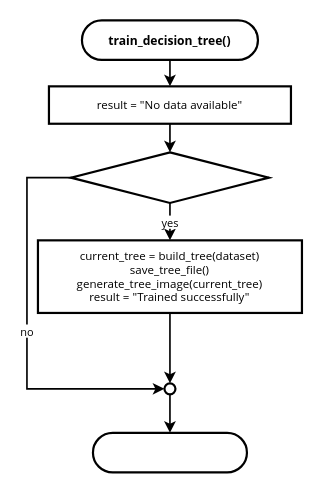
The diagram is 322 pixels wide and 492 high, and some of its shapes have lost their labels. The shapes that lost their labels are listed below. From the top down, each one's box as (x1, y1, x2, y2) in pixels, then its label:
(69, 151, 270, 204): dataset not empty
(91, 431, 248, 473): return result
